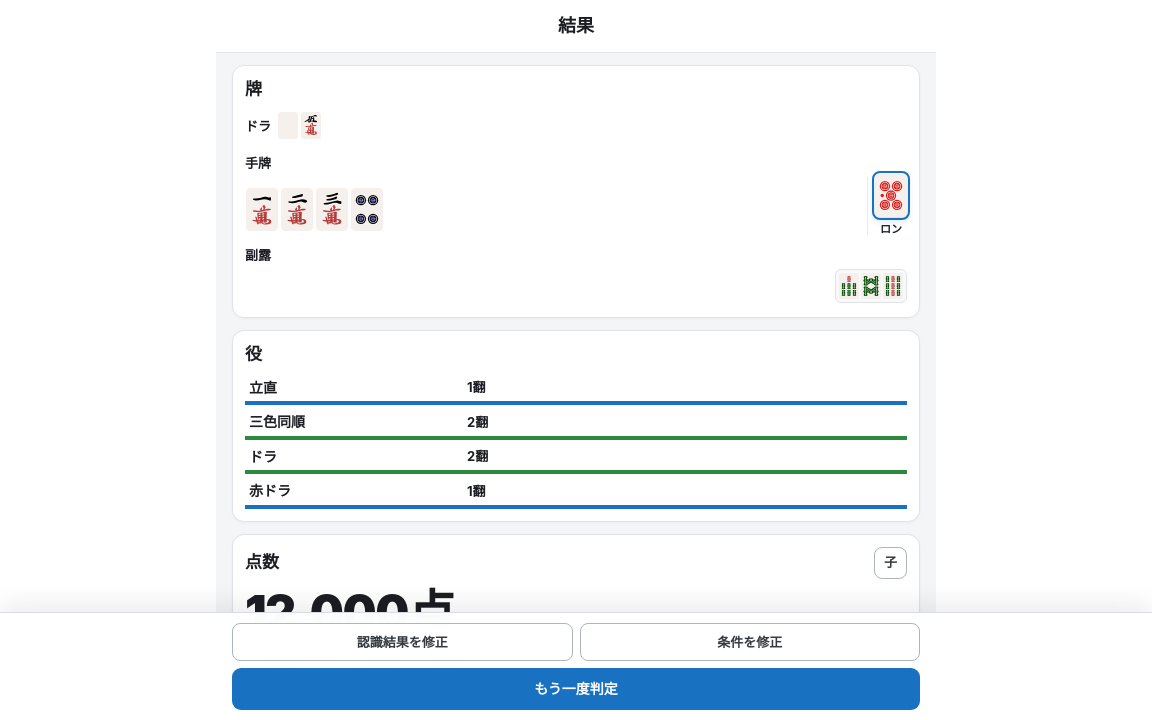
result page presentation › clears state for explicit new recognition
The image size is (1152, 720).
Click the button "もう一度判定" at (576, 689), box [232,668,920,710]
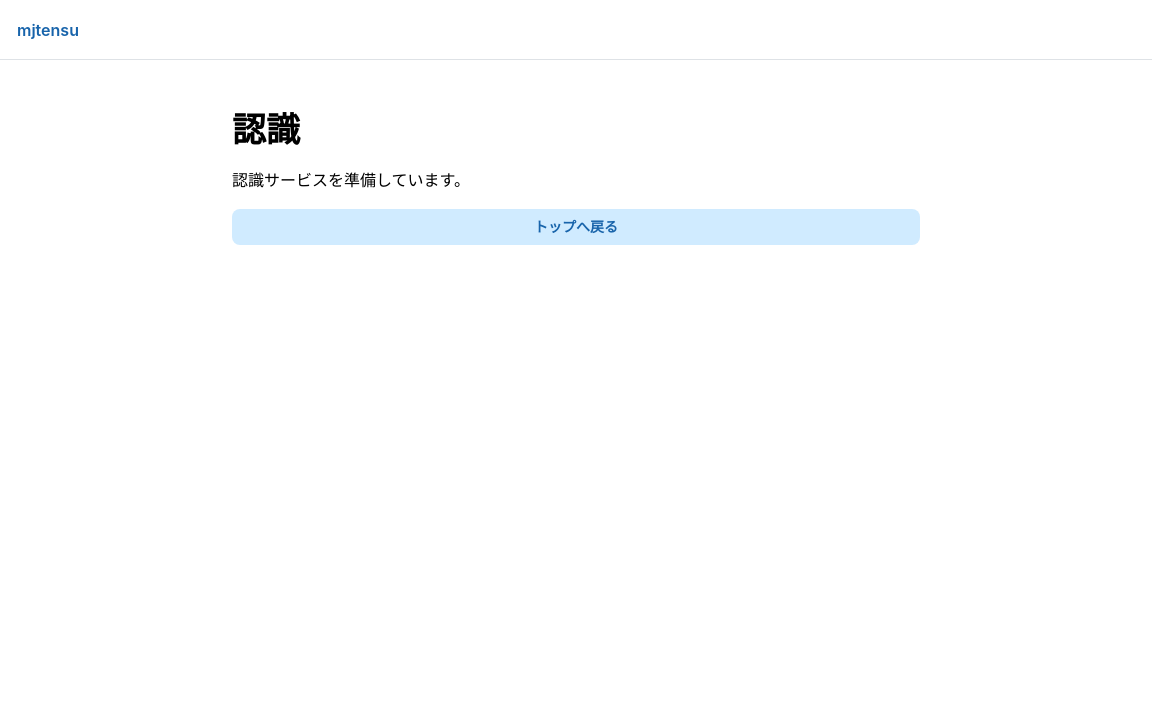
Expected: the heading "認識" is shown, [232,109,300,150]
